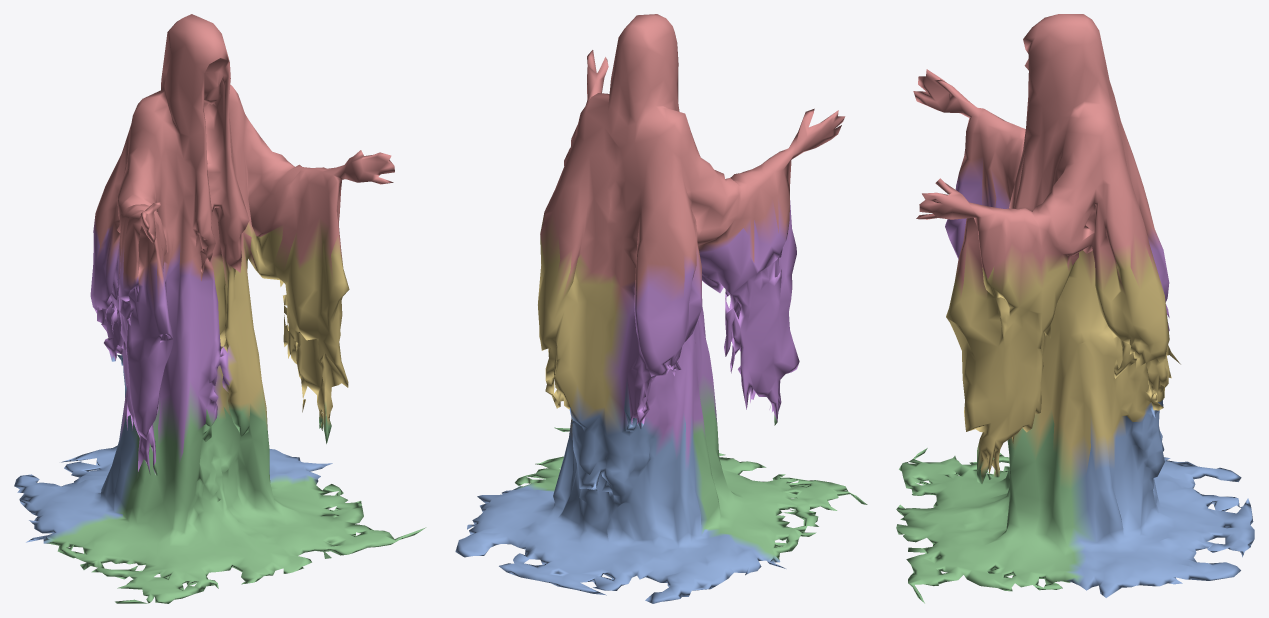
Rendered from ghost_3d7.glb.
3 views of the same model, side by side, from view 1: azimuth 30°, elevation 25°; view 2: azimuth 150°, elevation 25°; view 3: azimuth 270°, elevation 25° (orthographic). The views are drawn at different scales.
Parts seen in each view (by area): view 1: world; view 2: world; view 3: world.
Part boxes in pixels (x1,y1,x2,y2): world: [14, 14, 426, 603]; world: [455, 14, 867, 603]; world: [896, 14, 1254, 603].
Size of the model in its own units: 1.34 by 2.01 by 1.28.
